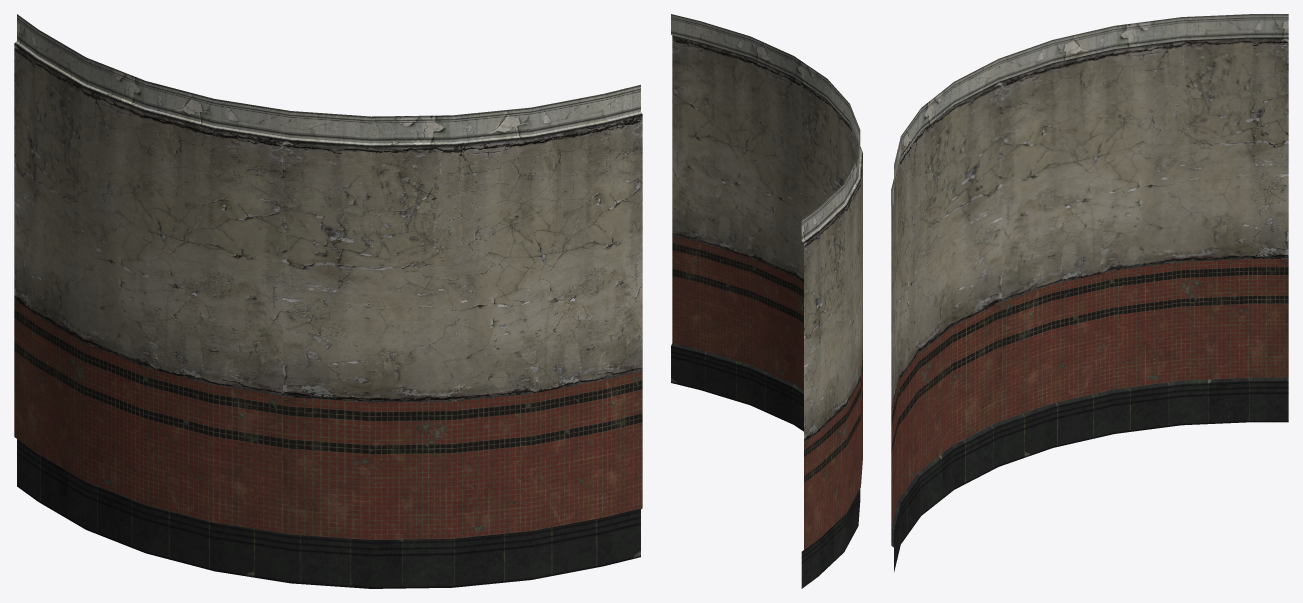
Rendered from urban_damaged_large_curve_wall.dae.
3 views of the same model, side by side, from view 1: azimuth 30°, elevation 25°; view 2: azimuth 150°, elevation 25°; view 3: azimuth 270°, elevation 25° (orthographic). The views are drawn at different scales.
Parts seen in each view (by area): view 1: polySurface789, polySurface790, polySurface787, polySurface788; view 2: polySurface789, polySurface790, polySurface787, polySurface788; view 3: polySurface789, polySurface790, polySurface787, polySurface788.
Boxes of the visible parts, box(x1,y1,x2,y2) form: polySurface789: box(14, 43, 642, 402); polySurface790: box(14, 300, 642, 539); polySurface787: box(17, 439, 641, 588); polySurface788: box(14, 14, 642, 146); polySurface789: box(672, 35, 862, 442); polySurface790: box(672, 235, 862, 549); polySurface787: box(671, 343, 860, 588); polySurface788: box(671, 14, 862, 242); polySurface789: box(891, 37, 1288, 409); polySurface790: box(891, 259, 1288, 528); polySurface787: box(891, 377, 1288, 571); polySurface788: box(891, 14, 1288, 205).
Size of the model in its own units: 3.75 by 4.25 by 3.75.
